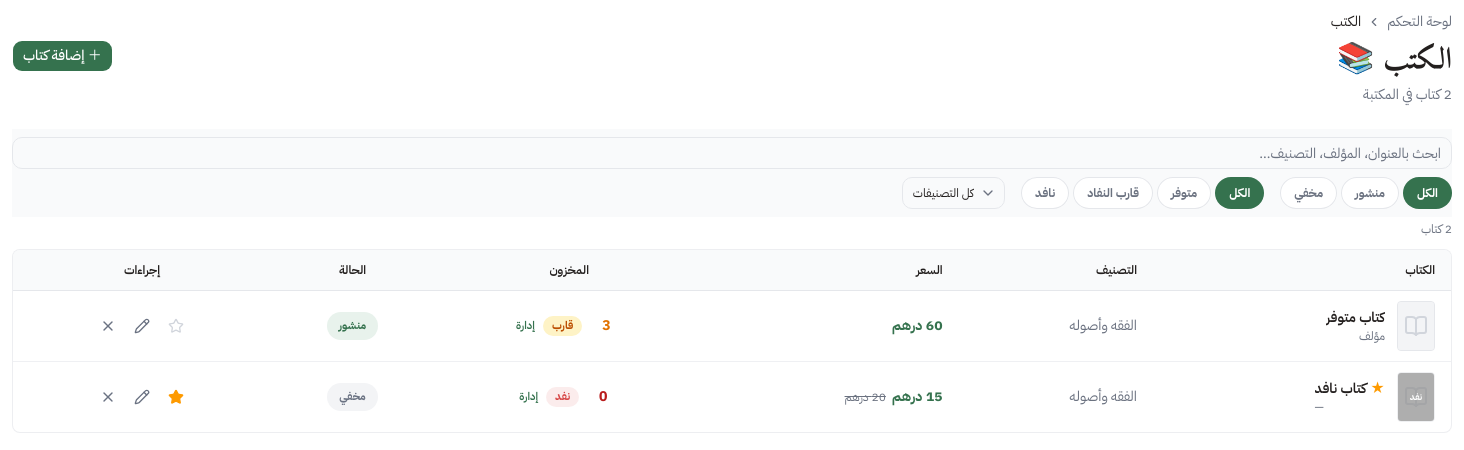
it: BooksAdmin (responsive + filters) › renders search, filters, badges and links stock management separately
Check: the field with placeholder "ابحث بالعنوان، المؤلف، التصنيف…" is shown, box [12,137,1452,169]
Check: the text "كل التصنيفات" is shown, box [913,185,974,201]
Click the dropdown labelled "التصنيف". click: point(953, 193)
box: [902,177,1005,209]
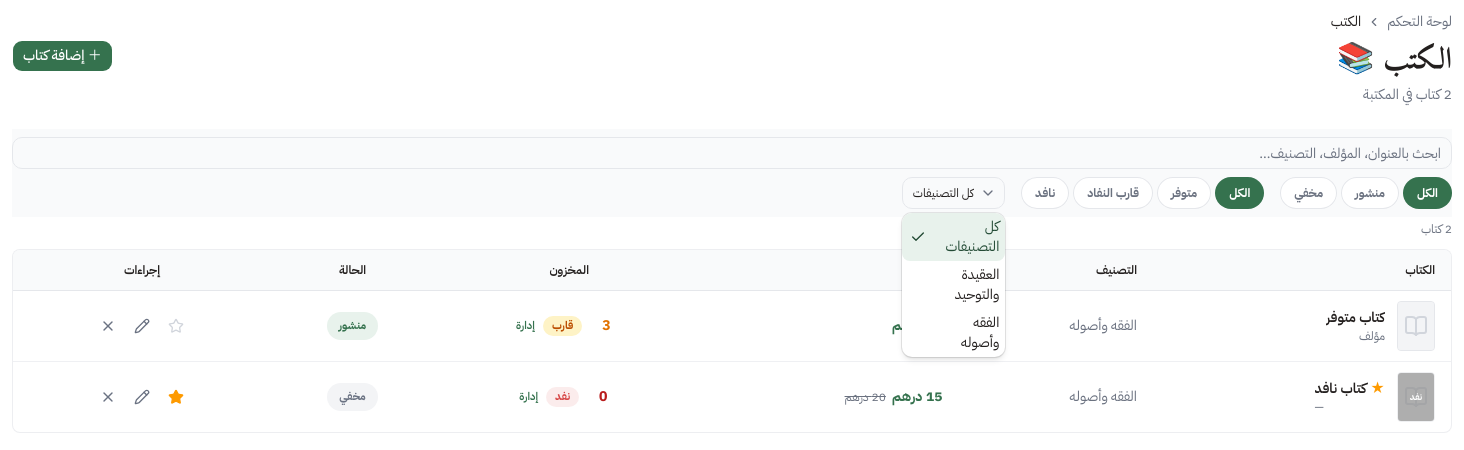
Check: the text "2 كتاب" is shown, box [1421,221,1452,237]
Check: the text "العقيدة والتوحيد" is shown, box [955,264,999,305]
